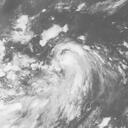cyclone: (51, 40, 92, 81)
